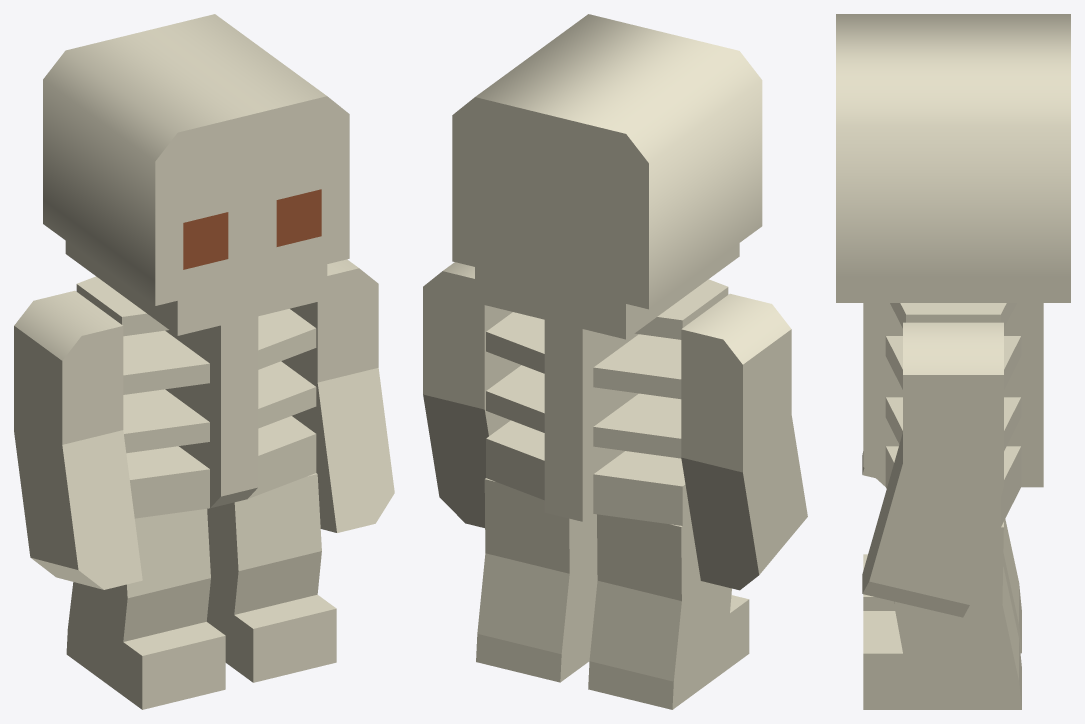
File: characterSkeleton.obj
3 views of the same model, side by side, from view 1: azimuth 30°, elevation 25°; view 2: azimuth 150°, elevation 25°; view 3: azimuth 270°, elevation 25° (orthographic). The views are drawn at different scales.
Visible parts, largest first — view 1: head, body, armRight, legRight, legLeft, armLeft; view 2: head, body, armRight, legRight, legLeft, armLeft; view 3: head, armLeft, legLeft, body, legRight.
Boxes of the visible parts, x1,y1,x2,y2 form: head: (43,14,349,335); body: (76,276,316,518); armRight: (14,290,142,589); legRight: (66,509,225,709); legLeft: (206,473,336,682); armLeft: (281,259,394,532); head: (452,14,762,339); body: (486,279,728,525); armRight: (681,293,807,590); legRight: (588,514,749,709); legLeft: (476,478,597,682); armLeft: (423,262,521,527); head: (836,14,1070,302); armLeft: (862,322,1003,617); legLeft: (863,522,1021,709); body: (863,303,1043,527); legRight: (863,519,1021,653).
Bounding box in the file's own units: 0.4232 × 0.7432 × 0.26.
